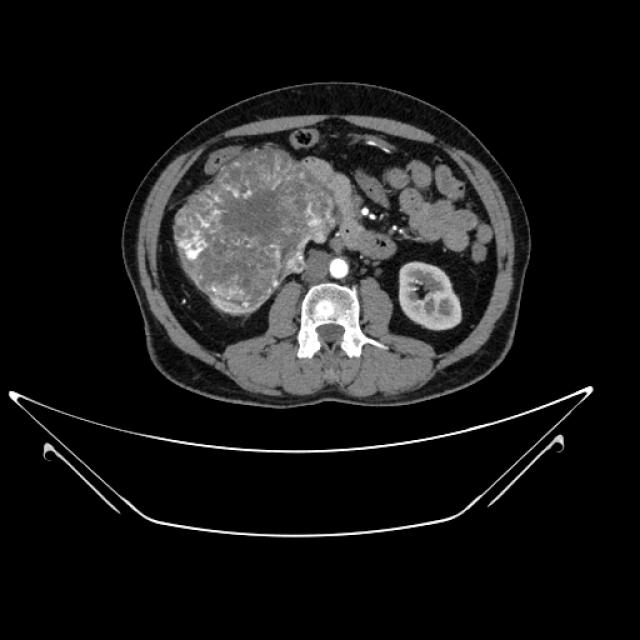Tumor: (174, 160, 356, 294)
